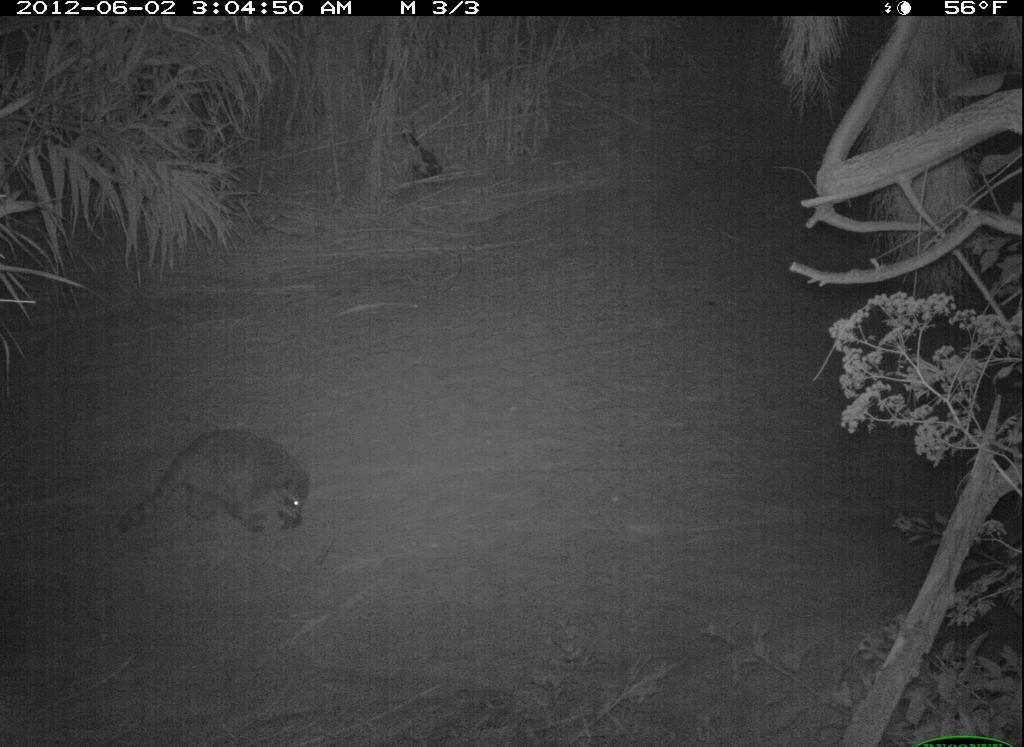raccoon: (108, 415, 326, 551)
